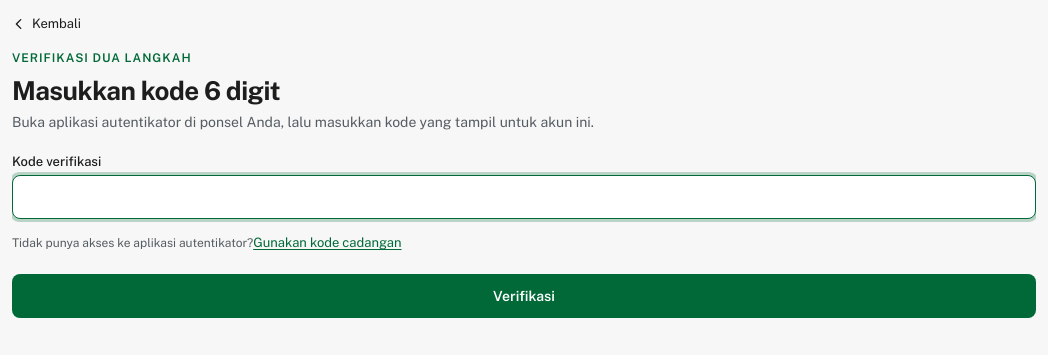
Test case: LangkahKodeMfa › kode belum 6 digit: tidak dikirim, pesan di kolom
This screenshot has width=1048, height=355.
Type "12" into the field with id "kode-mfa" at coordinates (524, 197), box [12,175,1036,219]
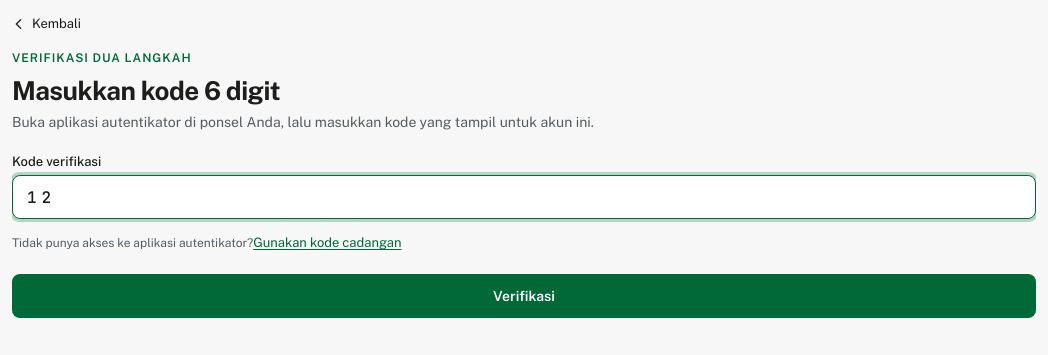
Submit the form, box [12,154,1036,318]
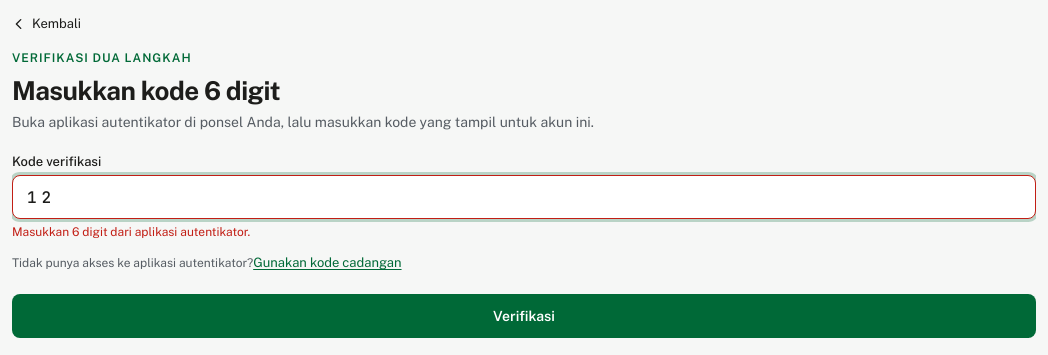
Now the text with id "kode-mfa-error" reads "Masukkan 6 digit dari aplikasi autentikator.", box [12,225,250,239]
